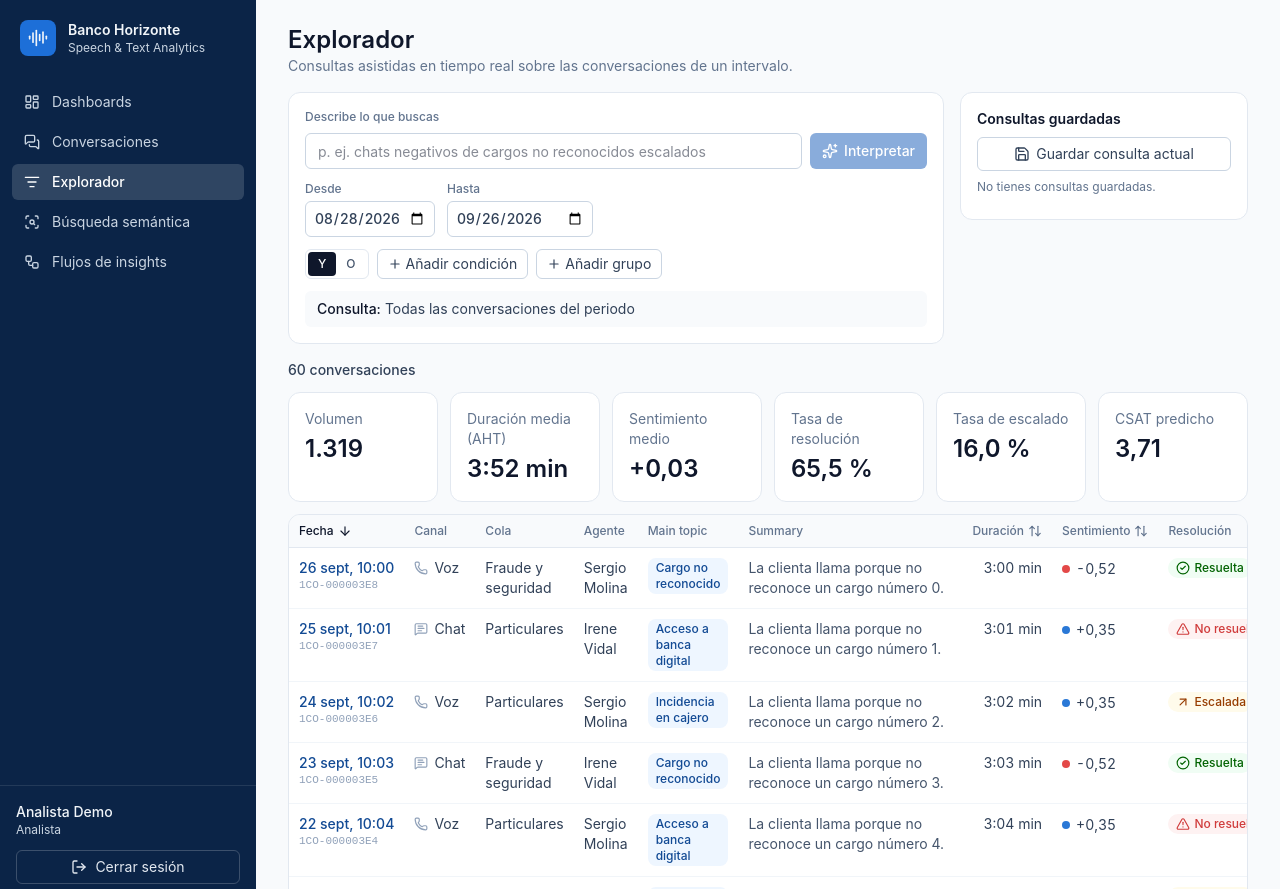
Test: consulta en lenguaje natural › carga las condiciones interpretadas en el constructor y las ejecuta
This screenshot has width=1280, height=889.
Type "chats escalados" into the field labelled "Describe lo que buscas" at (554, 151), box [305,133,802,169]
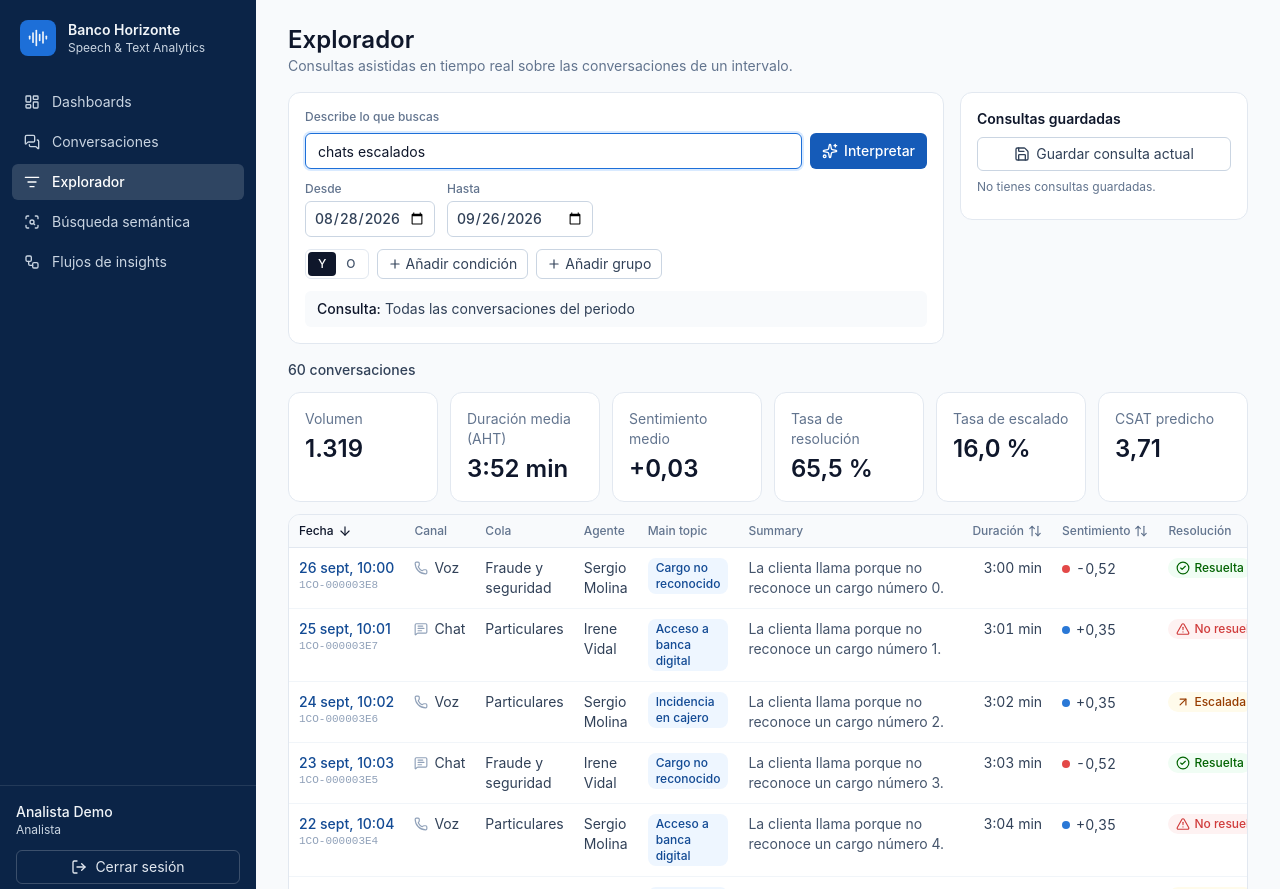
Click the button "Interpretar" at (869, 151), box [810,133,927,169]
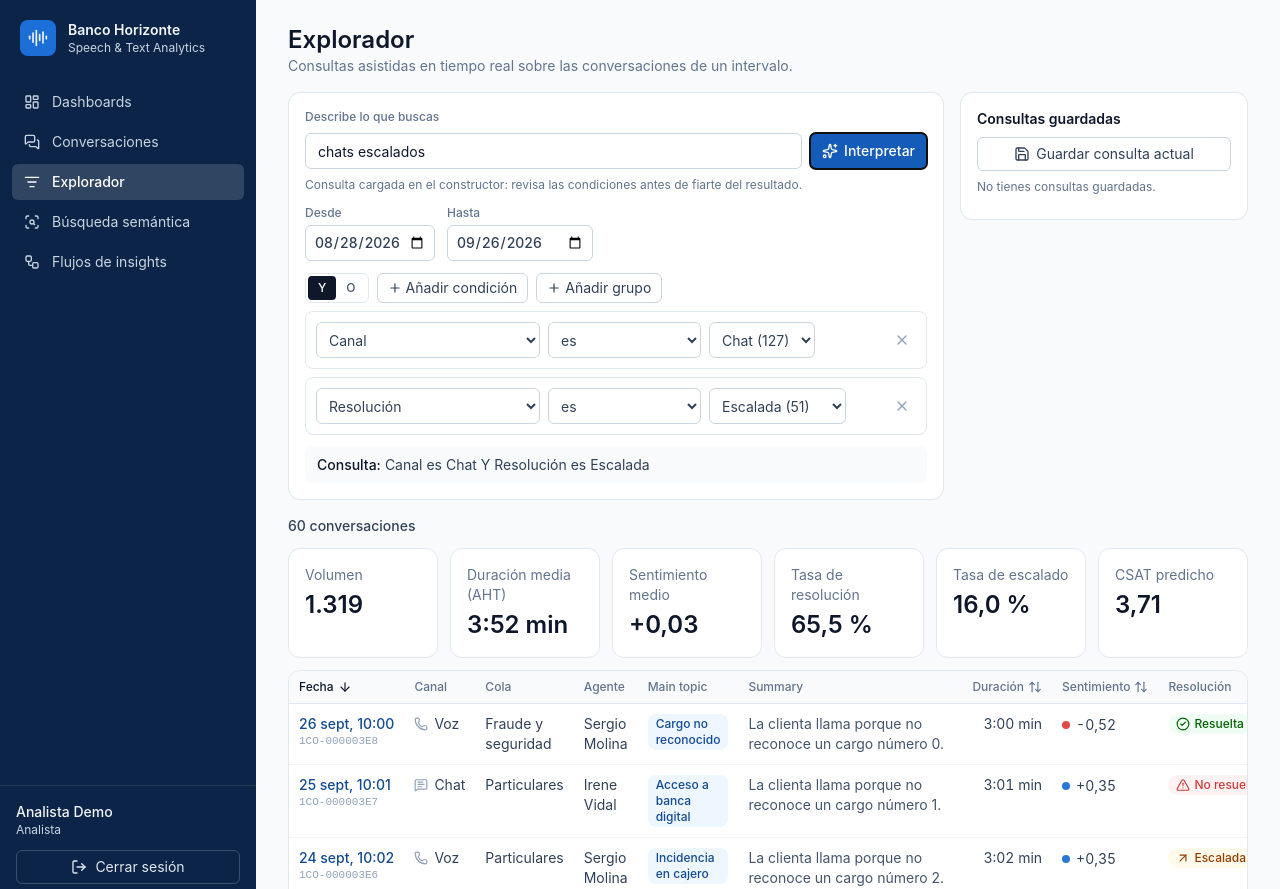
Check: the element named "Condición 2" is shown, box [305,377,927,435]
Check: the 1st dropdown named "Campo" shows "Canal", box [316,322,540,358]
Check: the text "Canal es Chat Y Resolución es Escalada" is shown, box [385,456,650,473]
